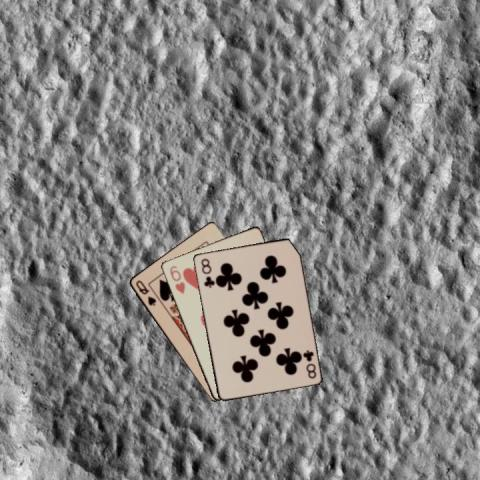6h: (167, 263, 186, 295)
8c: (198, 255, 215, 289), (300, 347, 317, 380)
Qs: (133, 278, 157, 308)
